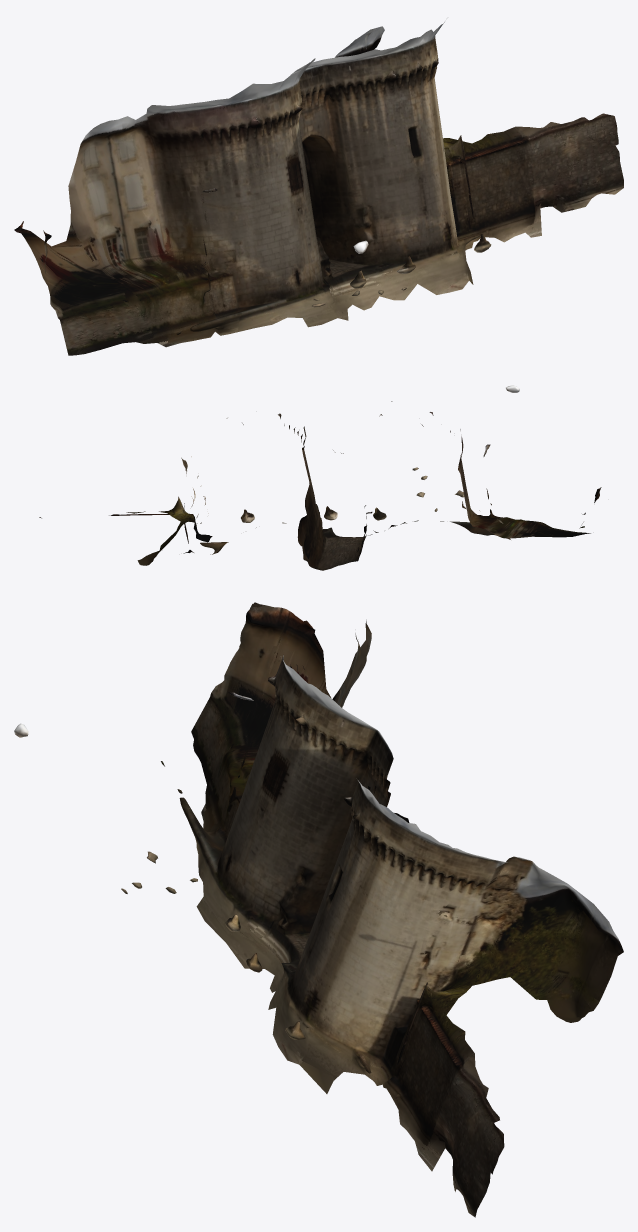
Rendered from model6_prev.glb.
3 renders of one model, top to bottom at view 1: azimuth 30°, elevation 25°; view 2: azimuth 150°, elevation 25°; view 3: azimuth 270°, elevation 25°, orthographic. The views are drawn at different scales.
Bounding box in the file's own units: 8.79 × 3.55 × 5.8.
1 material, 1 textured.
